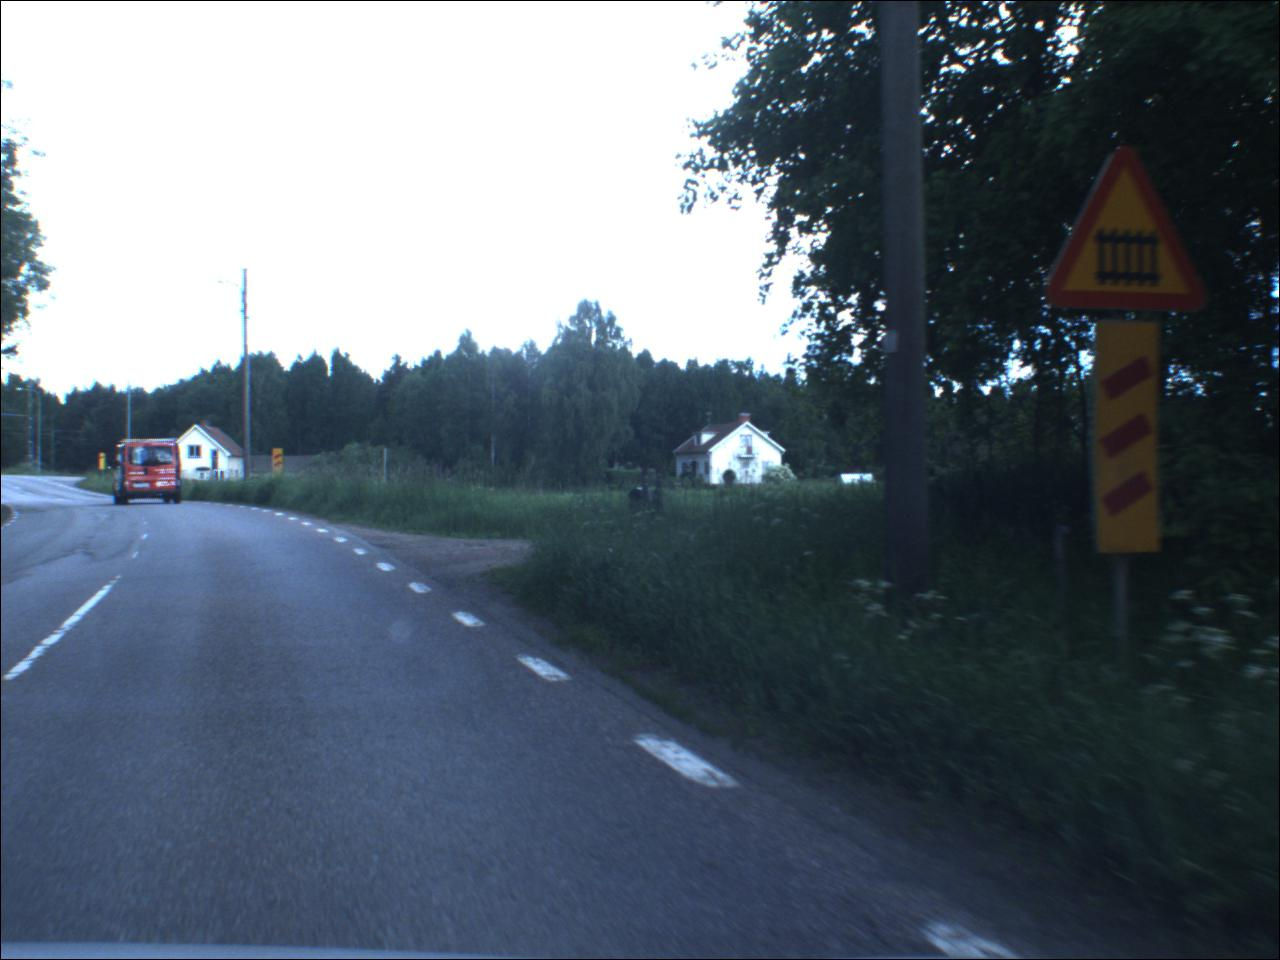WARNING_RAIL_CROSSING: (1044, 145, 1215, 319)
